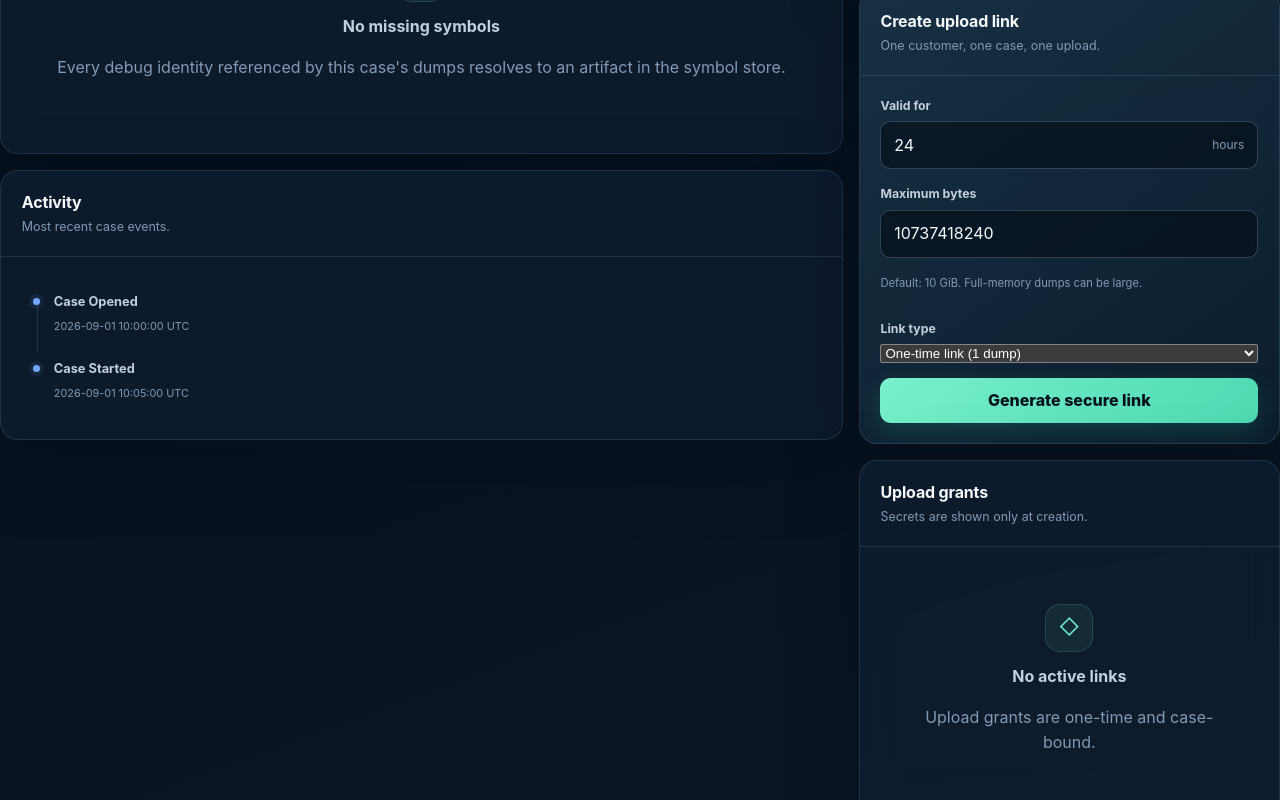
Test case: Upload grant operator flows › keeps the share secret only for the route instance and clears it on unmount
(page scrolled)
Step 1. Click the button "Generate secure link" → coordinates (1069, 400), box [880,378,1258,423]
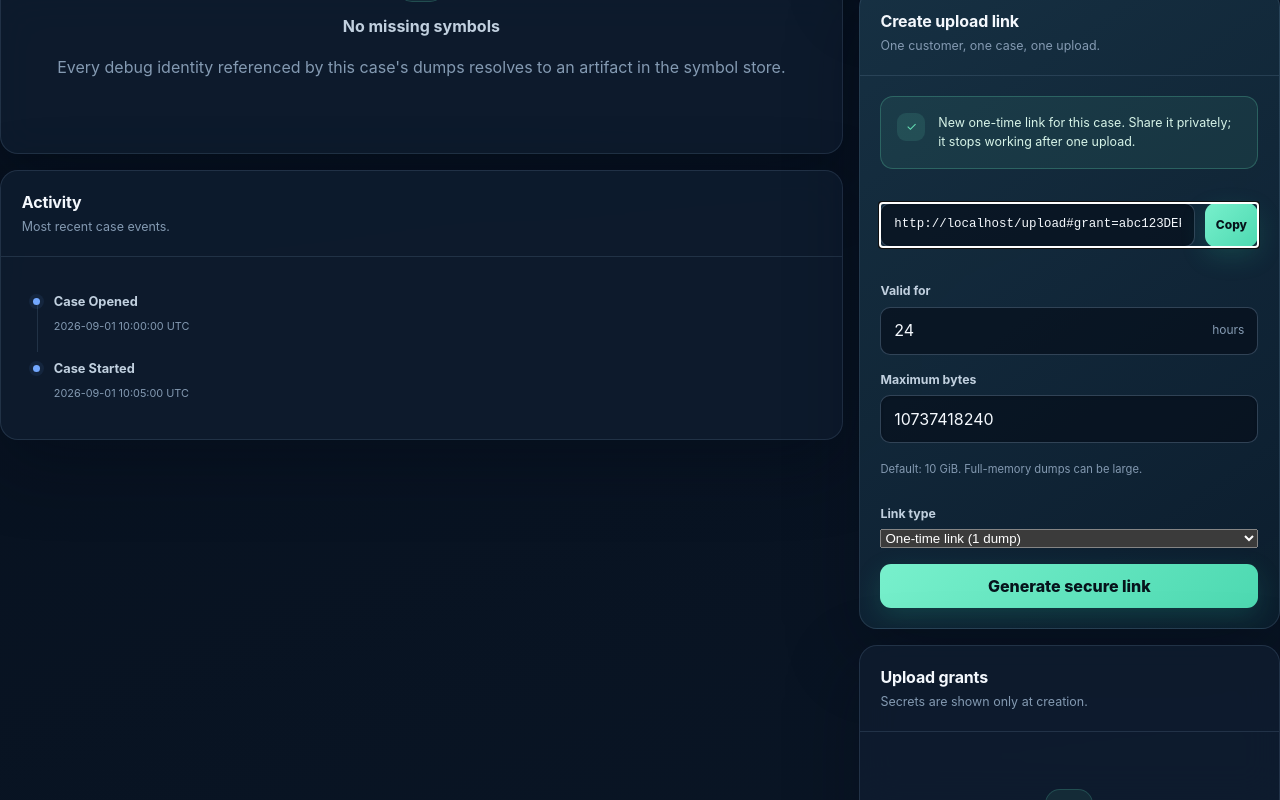
expect the field named "Shareable upload URL" is shown: met, box [880,203,1195,247]
